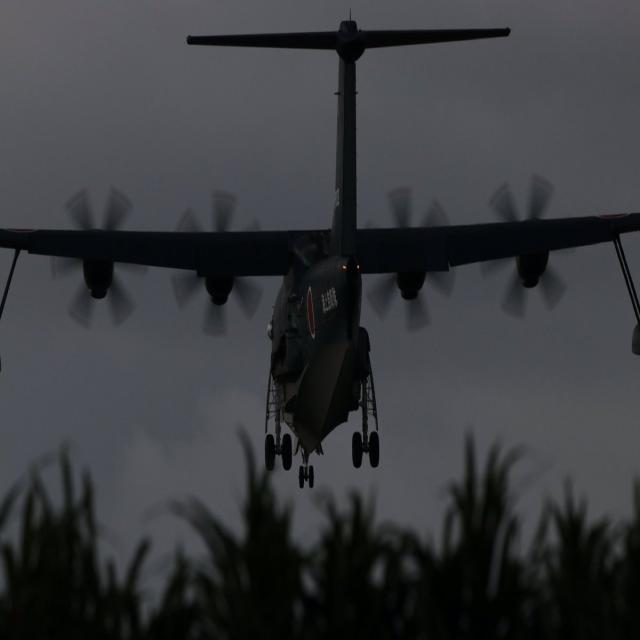MIL_Plane: (0, 8, 640, 488)
